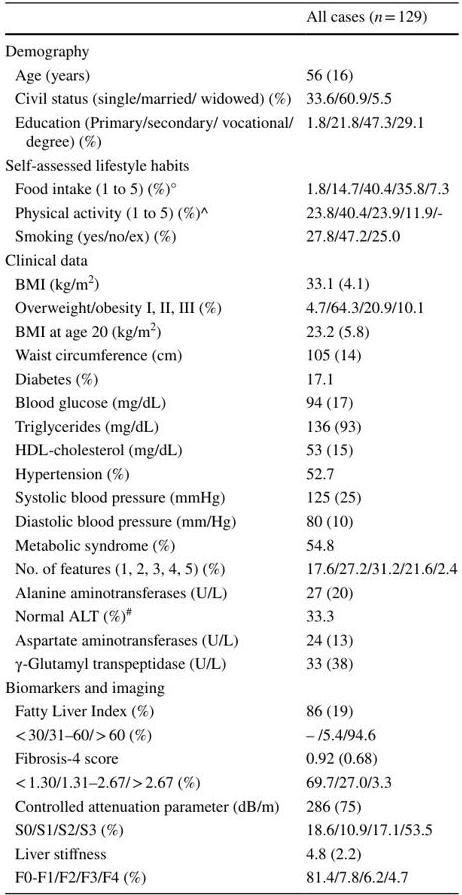table: (4, 4, 456, 889)
table column: (4, 4, 299, 889), (299, 4, 456, 889)
table column header: (4, 4, 456, 34)
table projected row header: (4, 34, 456, 63), (4, 153, 456, 177), (4, 675, 456, 699), (4, 248, 456, 271)
table row: (4, 110, 456, 153), (4, 4, 456, 34), (4, 34, 456, 63), (4, 271, 456, 296), (4, 318, 456, 343), (4, 603, 456, 628), (4, 63, 456, 87), (4, 153, 456, 177), (4, 177, 456, 201), (4, 224, 456, 248), (4, 343, 456, 367), (4, 390, 456, 414), (4, 414, 456, 438), (4, 438, 456, 462), (4, 485, 456, 509), (4, 509, 456, 533), (4, 533, 456, 557), (4, 628, 456, 652), (4, 675, 456, 699), (4, 699, 456, 723), (4, 723, 456, 747), (4, 770, 456, 794), (4, 794, 456, 818), (4, 818, 456, 842), (4, 865, 456, 889), (4, 87, 456, 110), (4, 201, 456, 224), (4, 248, 456, 271), (4, 367, 456, 390), (4, 462, 456, 485), (4, 557, 456, 580), (4, 580, 456, 603), (4, 652, 456, 675), (4, 747, 456, 770), (4, 842, 456, 865), (4, 296, 456, 318)
